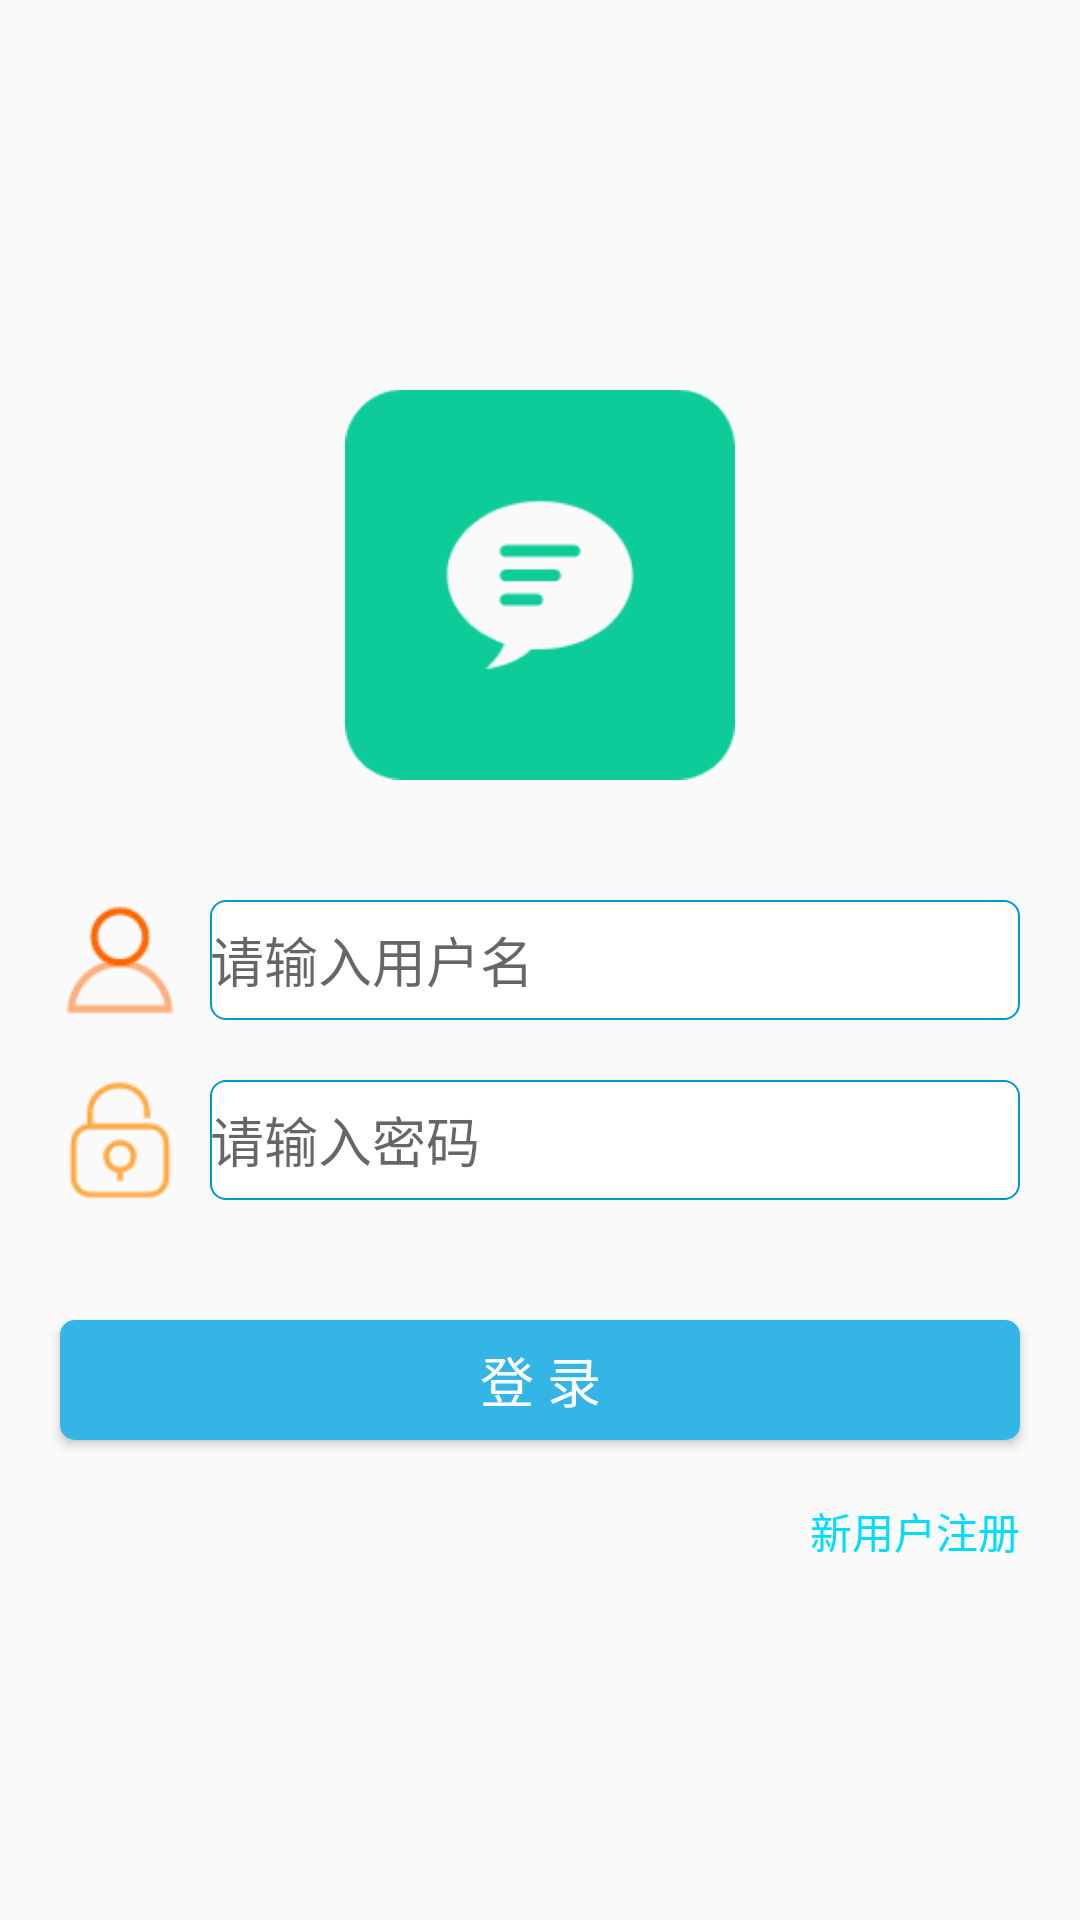

Point at icon controls on the screen. Image size 1080 x 1920, points as (x=x, y=y).
password: (x=120, y=1140)
